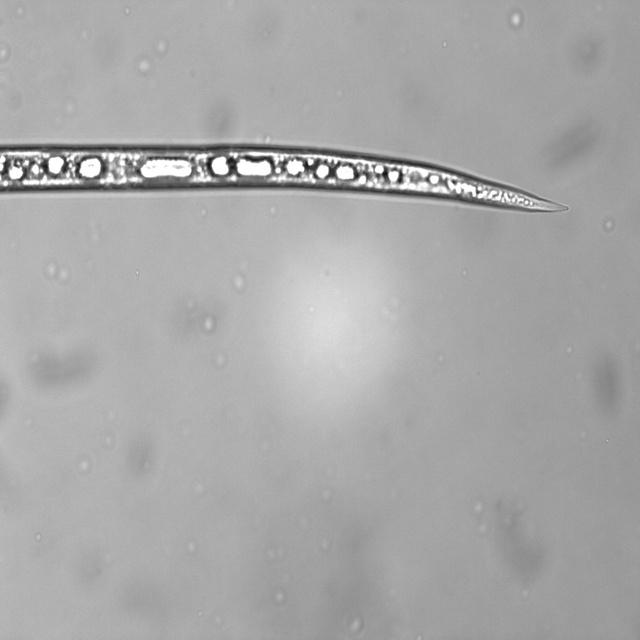Meloidogyne: (0, 132, 575, 215)
